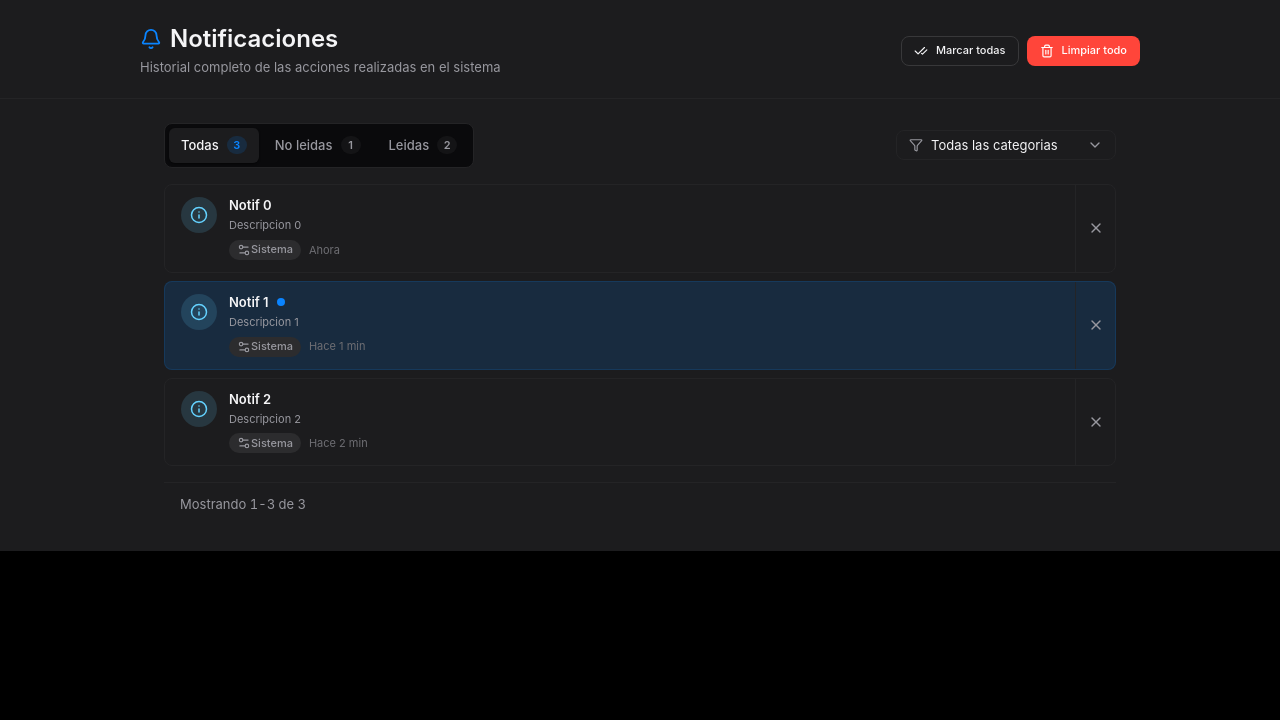
it: Notifications page › shows "Sin resultados" when filters return empty
Select "Facturacion" in the dropdown: {"x": 1017, "y": 145} top-left (931, 131), bottom-right (1103, 159)
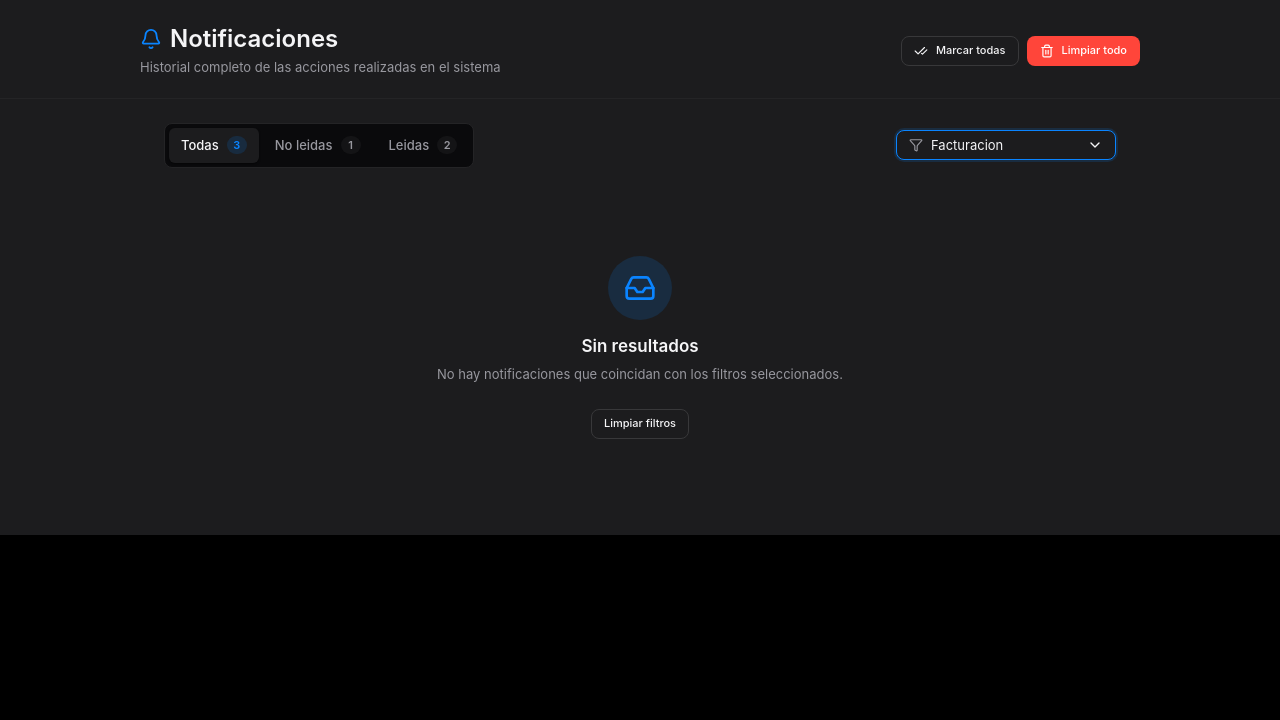
Result: the heading "Sin resultados" is shown at top-left (581, 336), bottom-right (699, 356)
